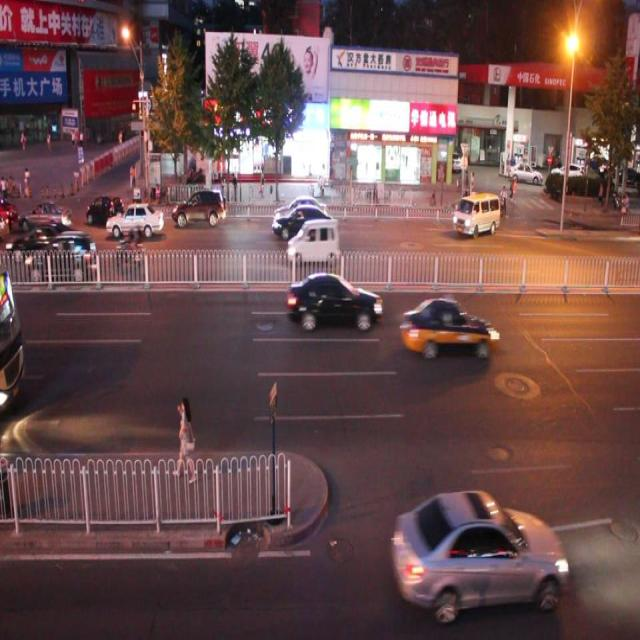car: (391, 482, 568, 613), (399, 293, 498, 361), (285, 268, 382, 333), (26, 228, 95, 282), (286, 215, 340, 265), (12, 220, 77, 258), (172, 187, 226, 228), (272, 203, 334, 238), (272, 192, 328, 230), (18, 197, 74, 234), (106, 201, 164, 236), (87, 191, 125, 229)
truck: (453, 191, 500, 238)
